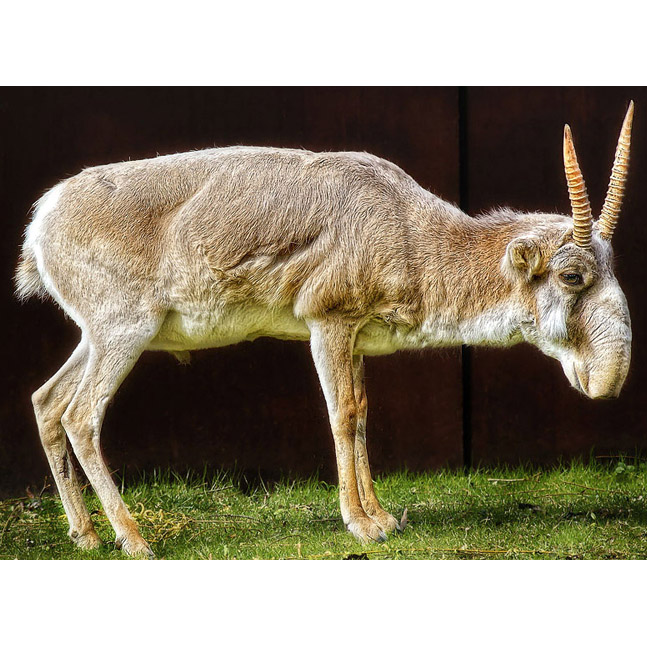saiga: (12, 98, 635, 553)
